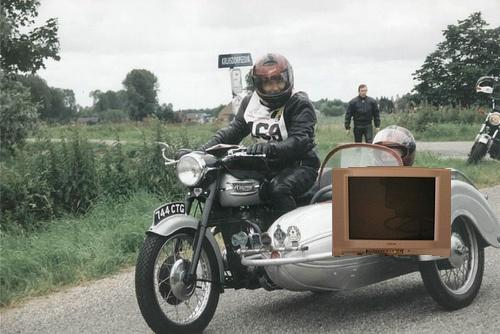tampered: (333, 167, 451, 257)
